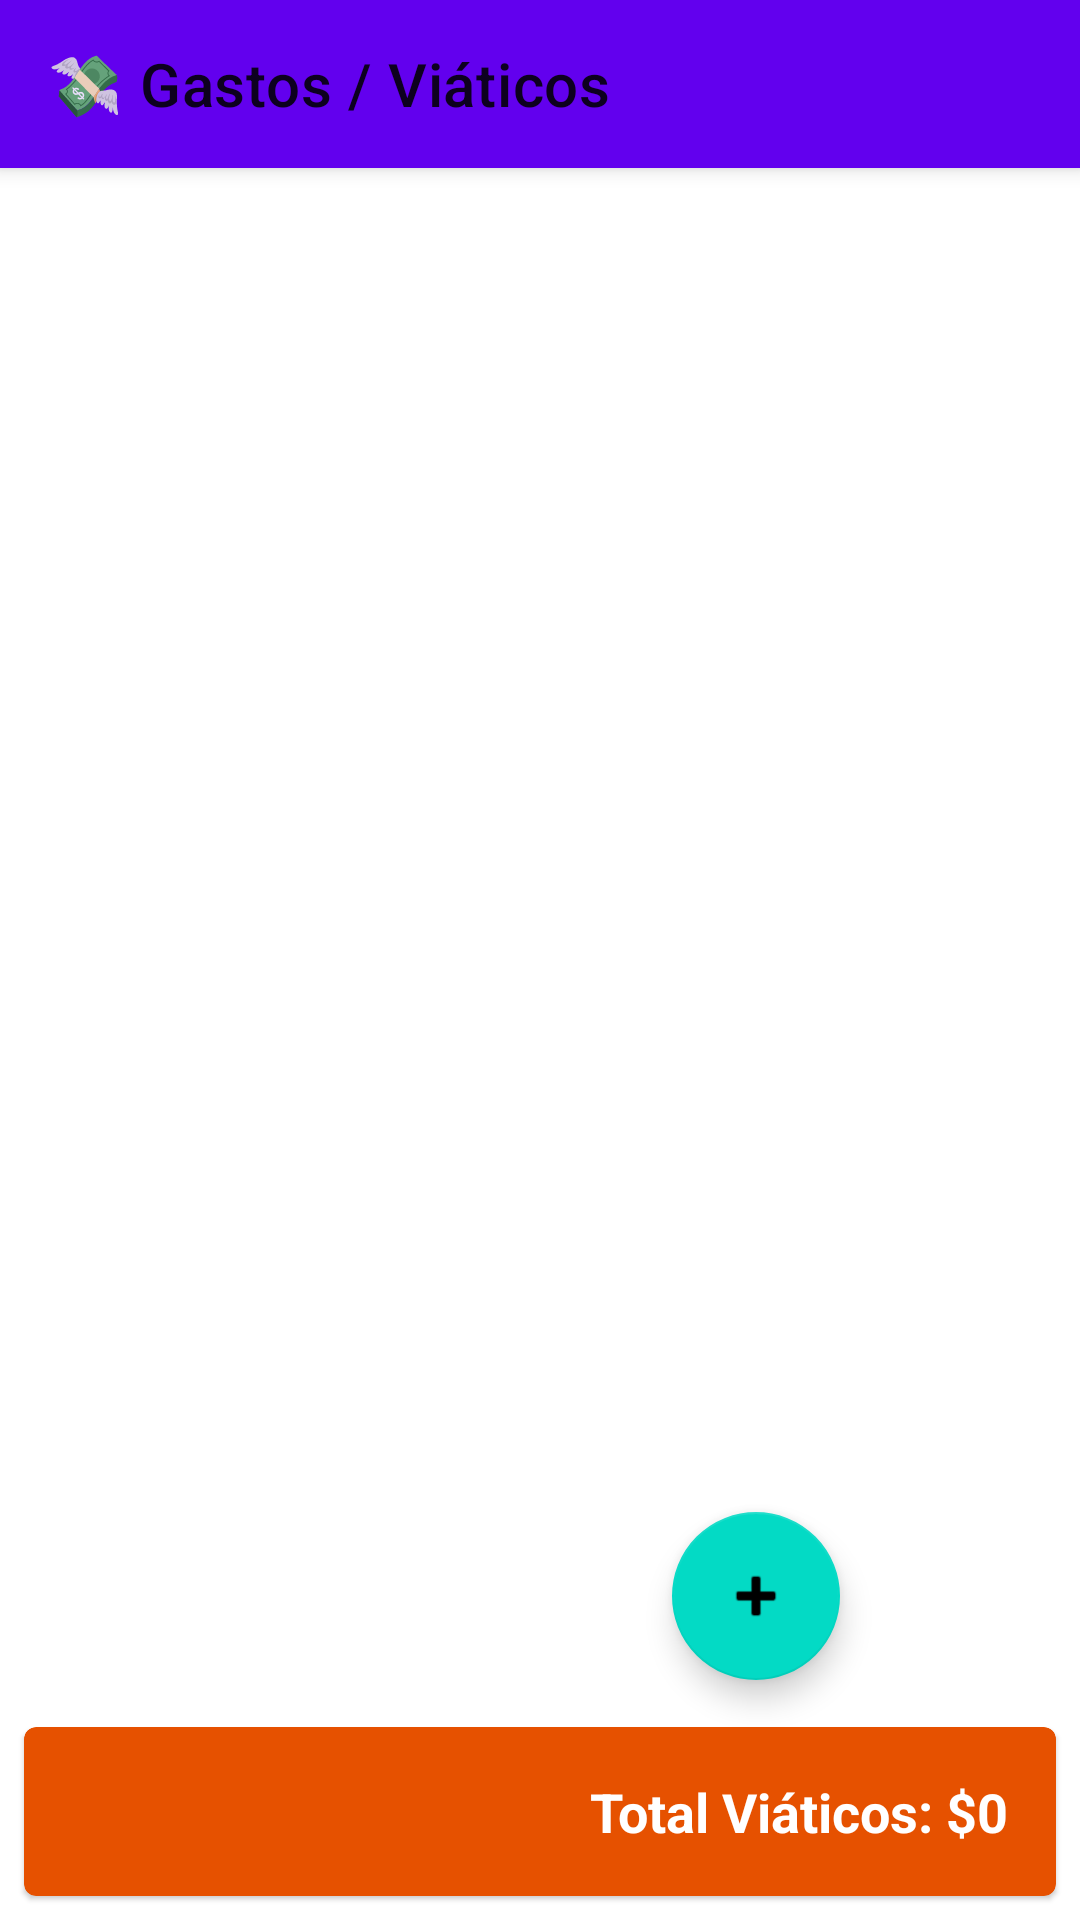

Screen size 1080w x 1920h. Icon name, then its center in pixels as (x=x, y=y):
add: (x=756, y=1596)
